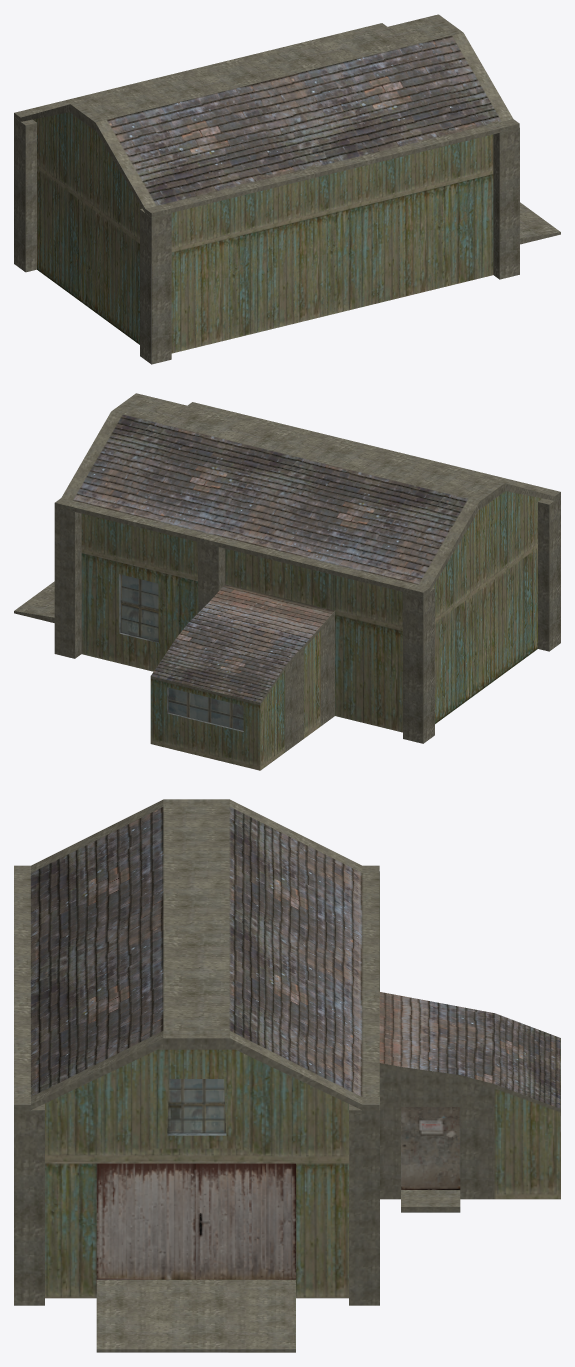
The model's file is farm_house.glb.
The picture shows the model from 3 angles, top to bottom: view 1: azimuth 30°, elevation 25°; view 2: azimuth 150°, elevation 25°; view 3: azimuth 270°, elevation 25°; orthographic projection. The views are drawn at different scales.
Parts seen in each view (by area): view 1: Cube; view 2: Cube; view 3: Cube.
Part boxes in pixels (x1,y1,x2,y2): Cube: [14, 14, 560, 364]; Cube: [14, 393, 560, 770]; Cube: [14, 799, 560, 1352].
Size of the model in its own units: 1021 by 445 by 825.
1 material, 1 textured.
